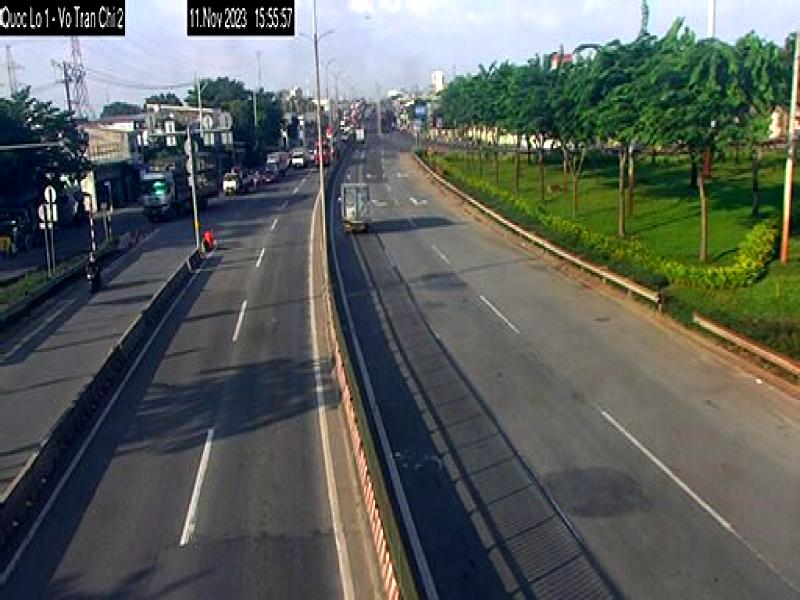truck: (138, 149, 222, 215), (340, 177, 374, 237)
